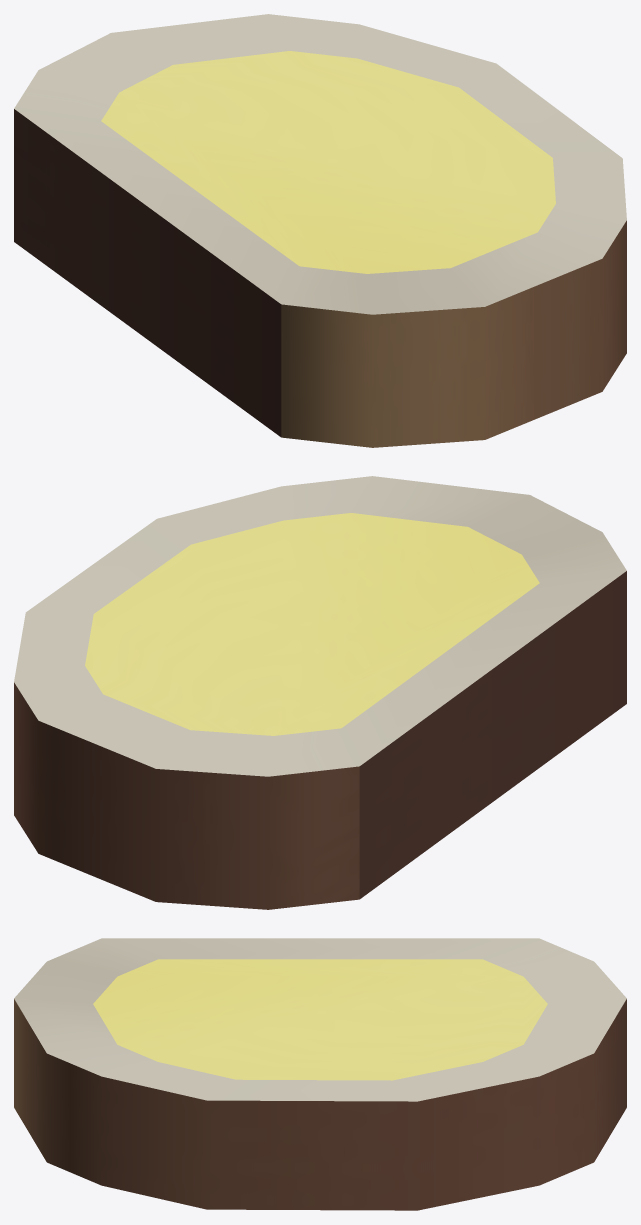
File: bread_slice_butter.fbx
3 views of the same model, one above another, from view 1: azimuth 30°, elevation 25°; view 2: azimuth 150°, elevation 25°; view 3: azimuth 270°, elevation 25° (orthographic). The views are drawn at different scales.
Visible parts, largest first — view 1: bread_slice_butter; view 2: bread_slice_butter; view 3: bread_slice_butter.
Part boxes in pixels (x1,y1,x2,y2): bread_slice_butter: (14,14,626,447); bread_slice_butter: (14,476,626,909); bread_slice_butter: (14,938,626,1210).
Size of the model in its own units: 17.44 by 5.44 by 27.7.
